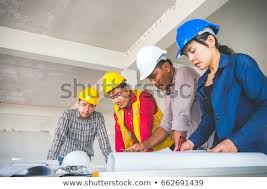Person_wearing_helmet: (176, 15, 222, 57), (71, 83, 99, 111)
